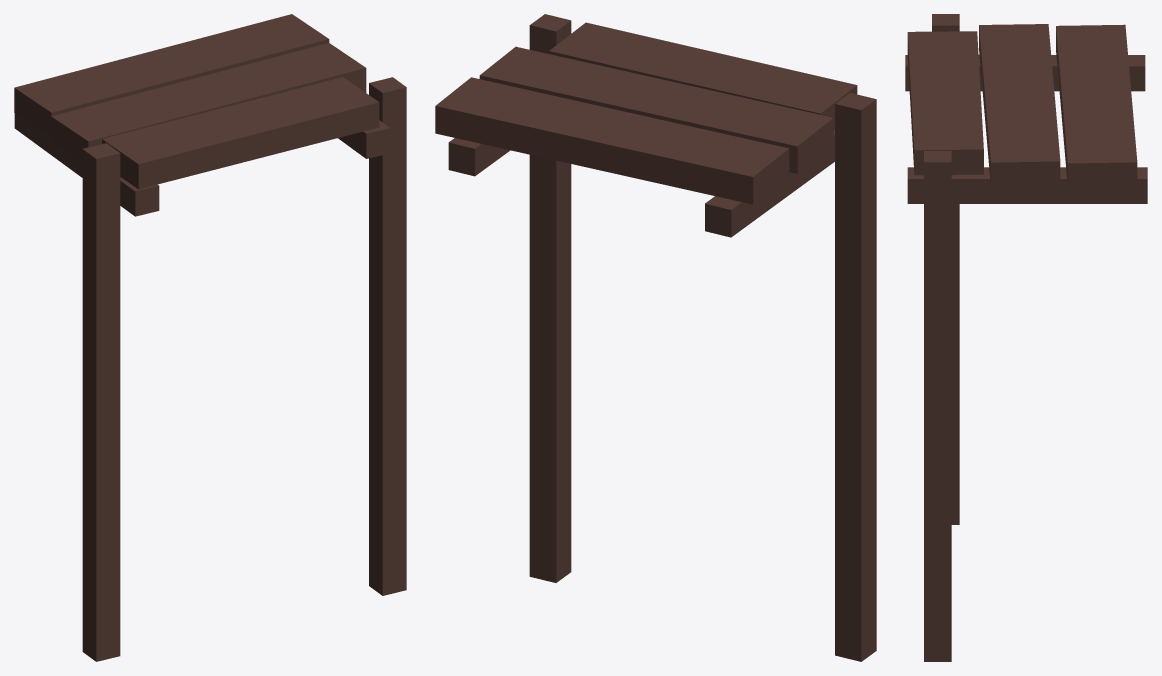
The model's file is DarkWoodFloorTallJettyShort1.fbx.
3 views of the same model, side by side, from view 1: azimuth 30°, elevation 25°; view 2: azimuth 150°, elevation 25°; view 3: azimuth 270°, elevation 25° (orthographic). The views are drawn at different scales.
Visible parts, largest first — view 1: WoodenJettyShortTall1; view 2: WoodenJettyShortTall1; view 3: WoodenJettyShortTall1.
Part boxes in pixels (x1,y1,x2,y2): WoodenJettyShortTall1: (14, 14, 406, 661); WoodenJettyShortTall1: (435, 14, 876, 661); WoodenJettyShortTall1: (905, 14, 1147, 661).
Bounding box in the file's own units: 382 × 600 × 264.
